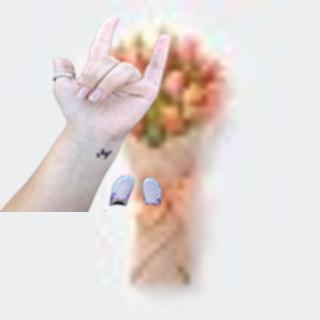ILY: (46, 12, 175, 139)
